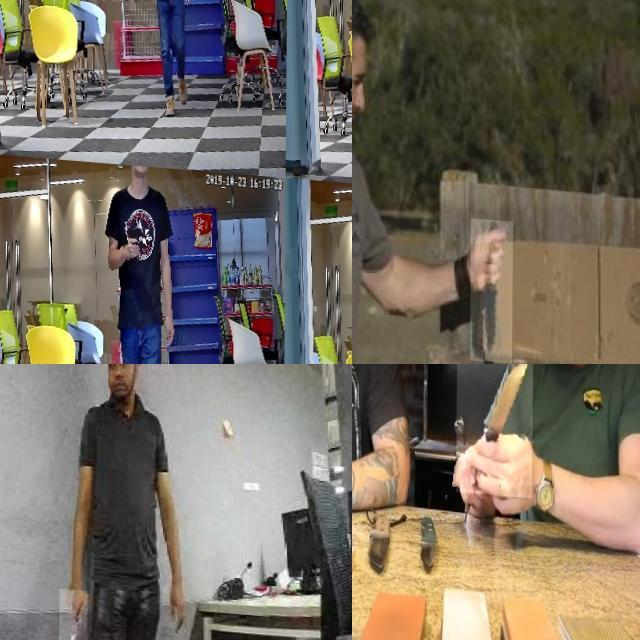-: (456, 364, 533, 491), (471, 210, 514, 354), (60, 584, 88, 640)
gun-knife-thesis - v11 Yolov5 augmented: (121, 216, 145, 258), (153, 0, 168, 11)
